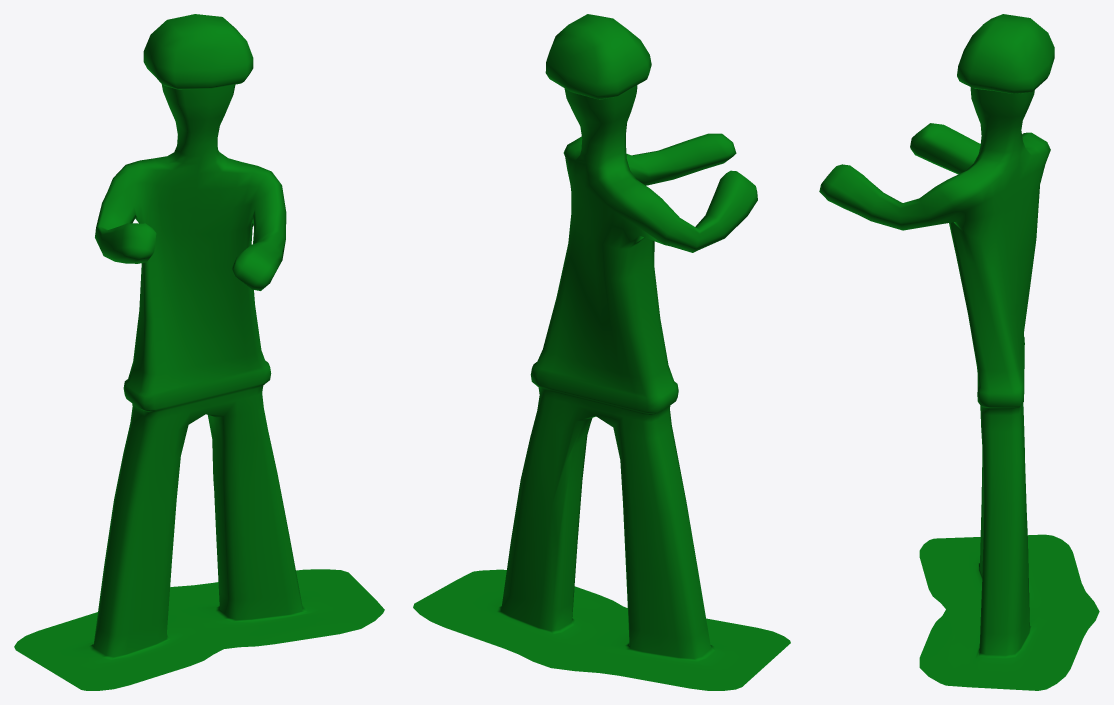
File: armyman.obj
3 views of the same model, side by side, from view 1: azimuth 30°, elevation 25°; view 2: azimuth 150°, elevation 25°; view 3: azimuth 270°, elevation 25° (orthographic). The views are drawn at different scales.
Parts seen in each view (by area): view 1: pPlane1; view 2: pPlane1; view 3: pPlane1.
Boxes of the visible parts, left/top/right/bottom form: pPlane1: left=14, top=14, right=384, bottom=690; pPlane1: left=413, top=14, right=790, bottom=690; pPlane1: left=819, top=14, right=1099, bottom=690.
Size of the model in its own units: 10.68 by 18.79 by 8.09.
